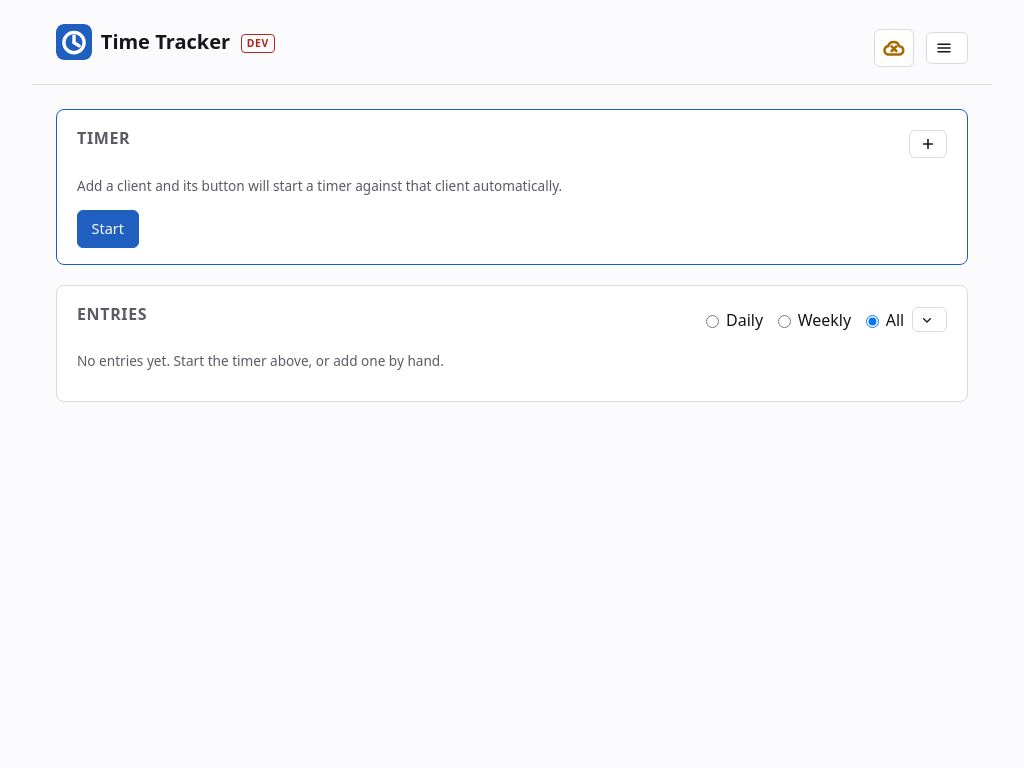
recording a timer (Phase 2A gate) › starts, shows elapsed, then stays put on stop and offers to classify it (item 48)
Click the button "Start".
click(108, 229)  # box [77,210,138,248]
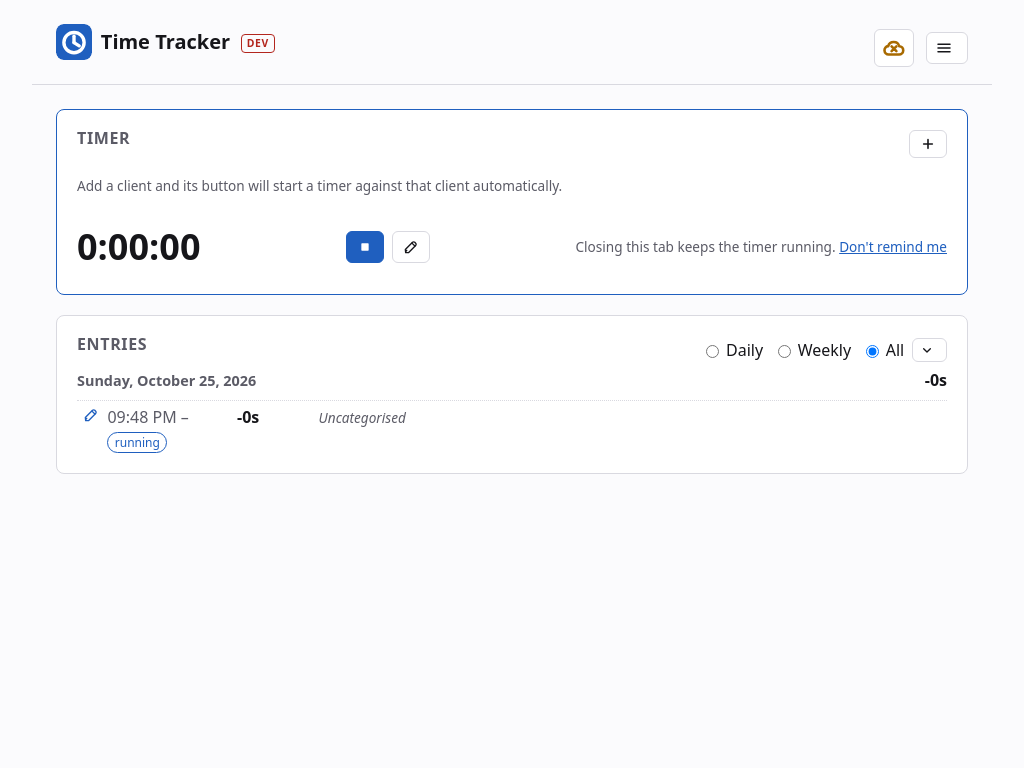
Check: the element with test id "timer-elapsed" does not show "No timer running", box [77,220,200,274]
Click the button named "Stop the timer".
click(365, 247)  # box [346,231,384,263]
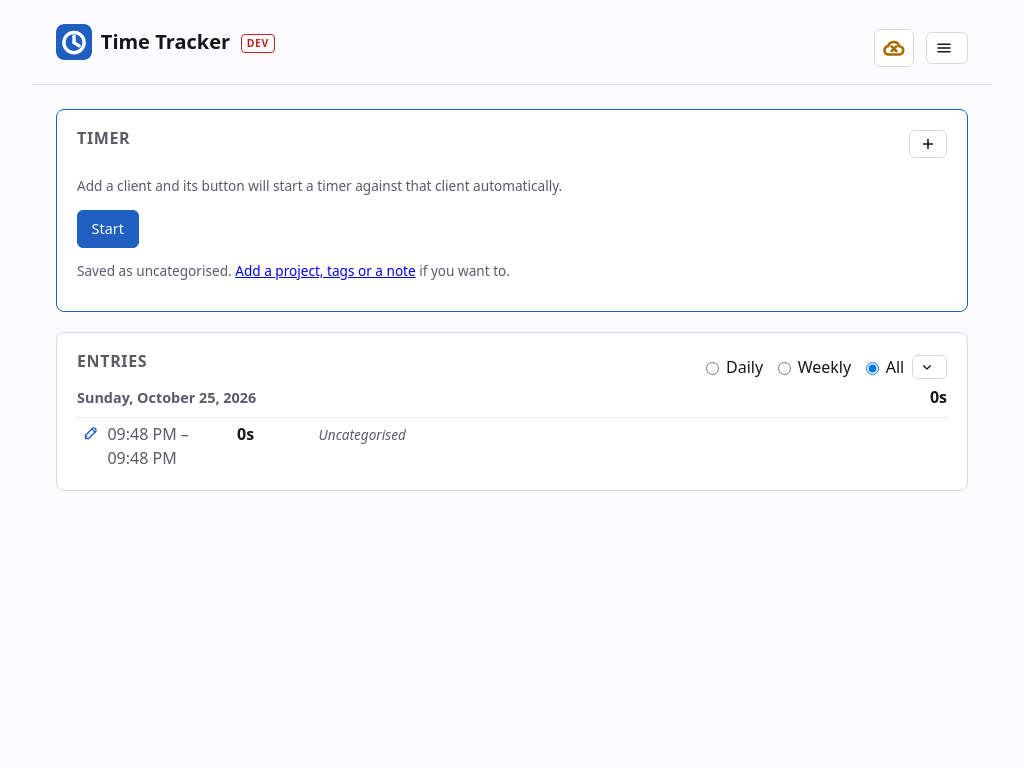
Check: the element with test id "just-stopped" shows "uncategorised", box [77,261,232,280]
Note: And following it lands on the form the old behaviour used to force.
Click the link "Add a project, tags or a note".
click(325, 271)  # box [235,261,416,280]
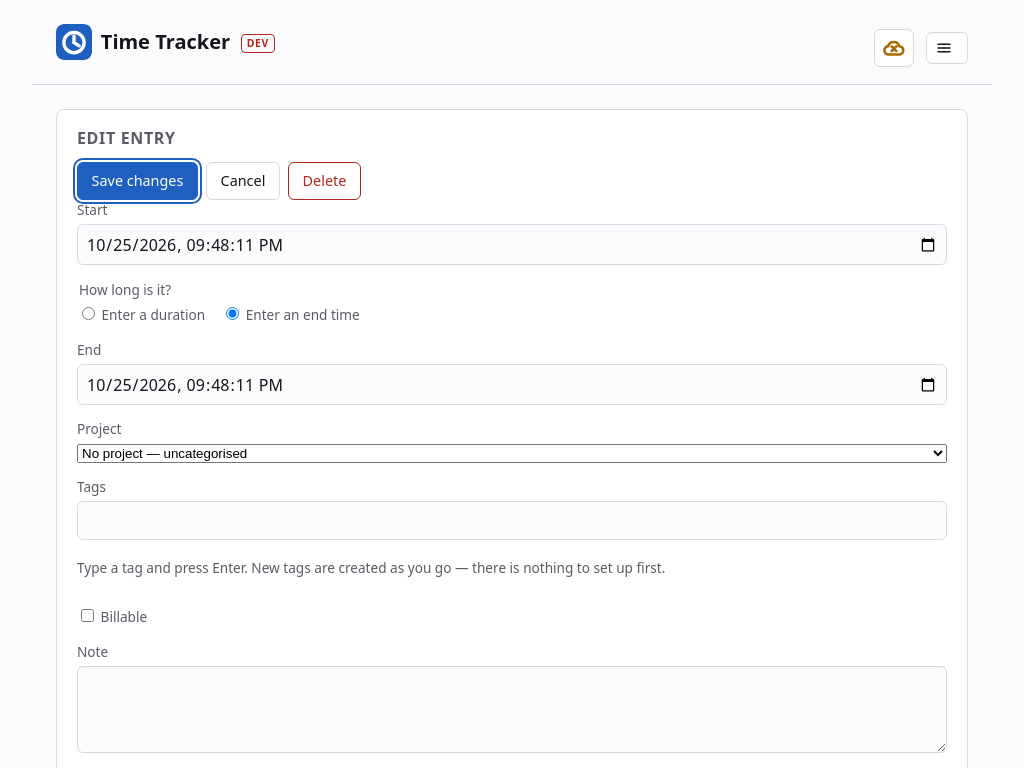
Check: the heading "Edit entry" is shown, box [77,127,176,149]
